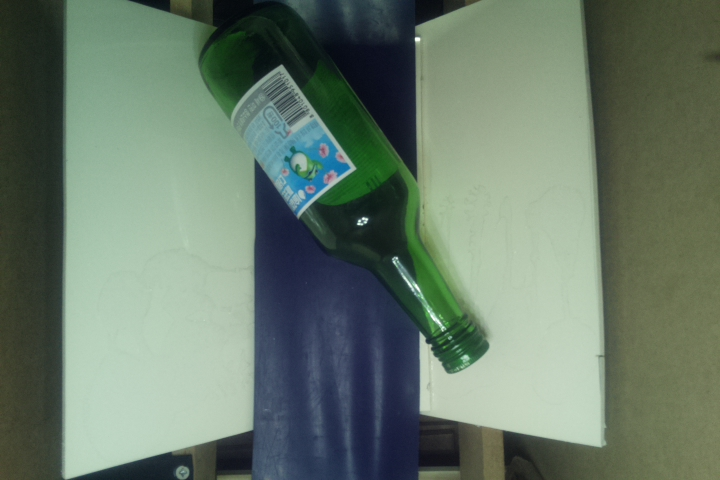soju: (202, 1, 493, 376)
